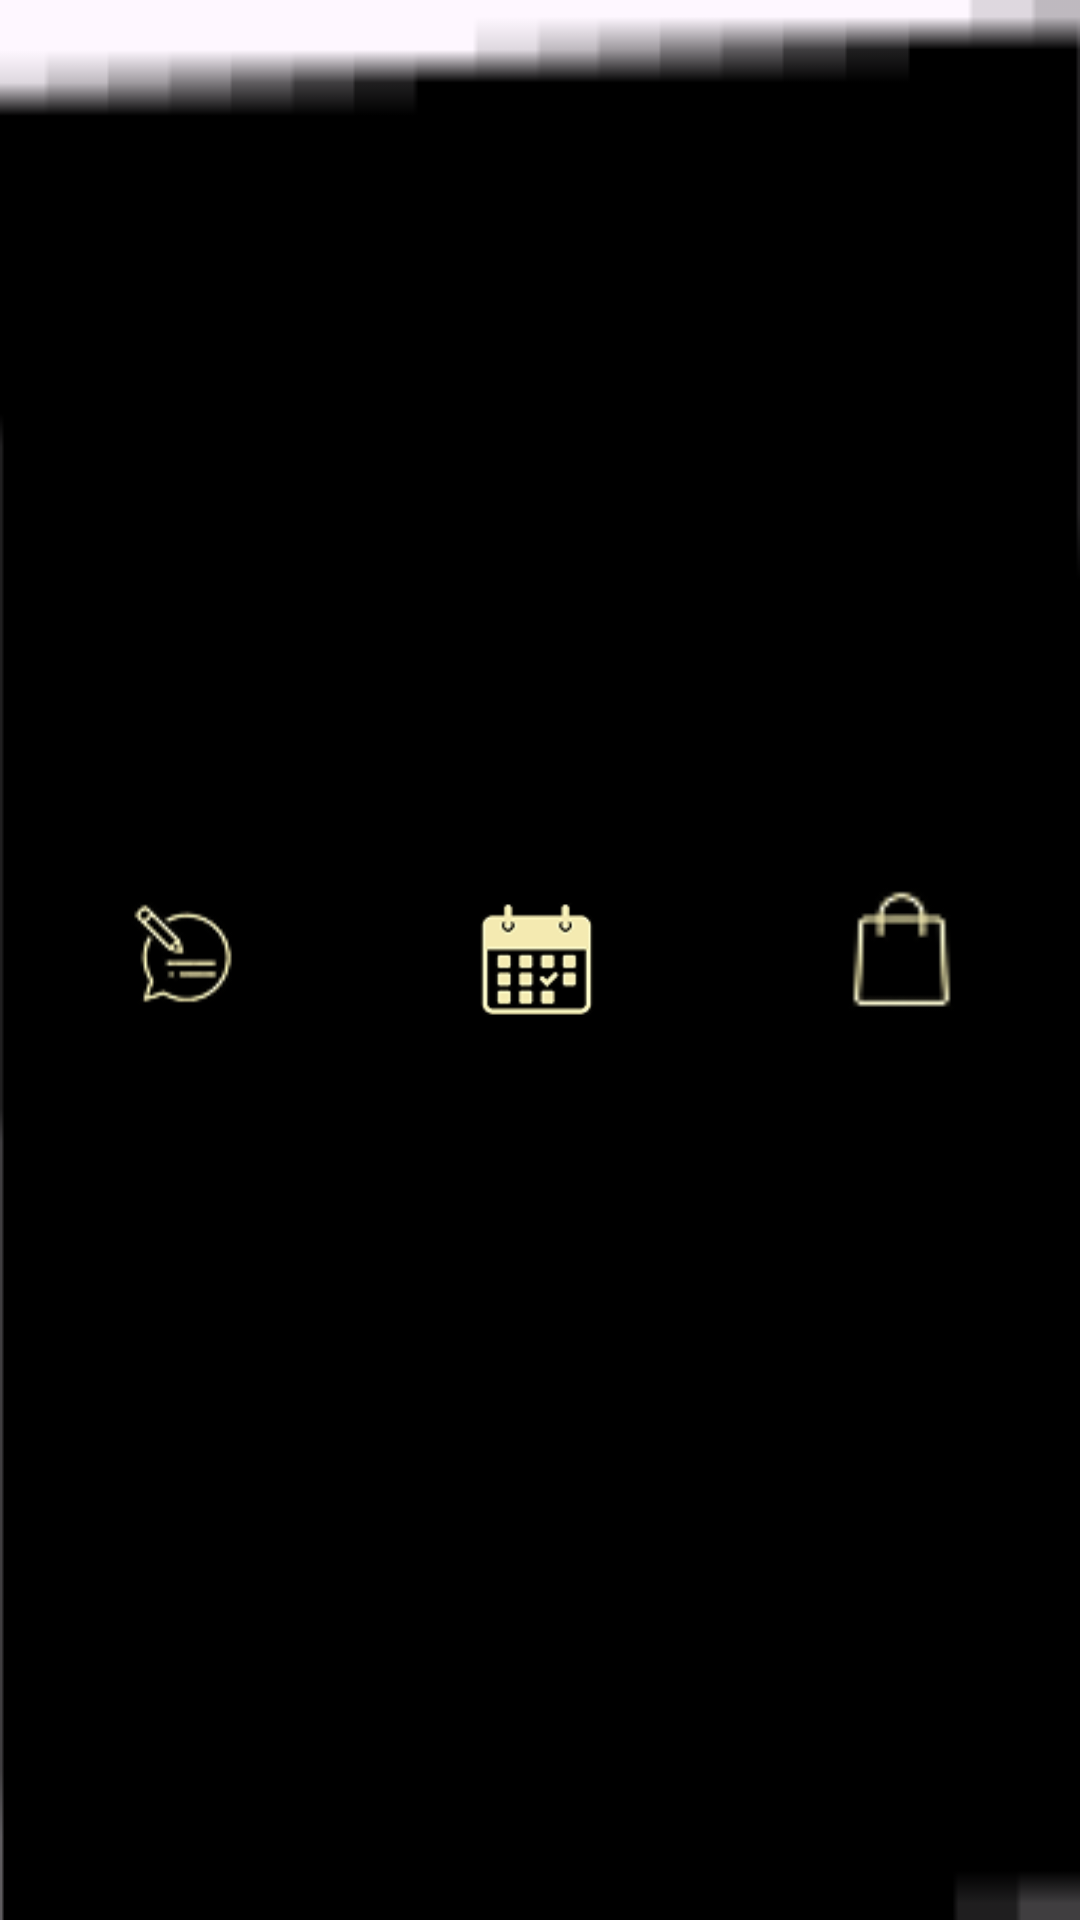

Icons on this 1080×1920 Android screen, each with its box as (x1, y1, x2, y2):
Calendar: (481, 904, 592, 1015)
